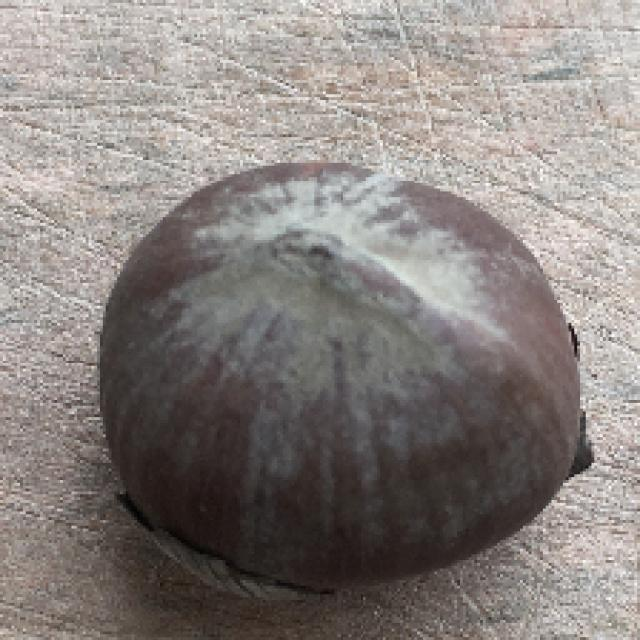DamagedHazelnut: (101, 169, 583, 587)
